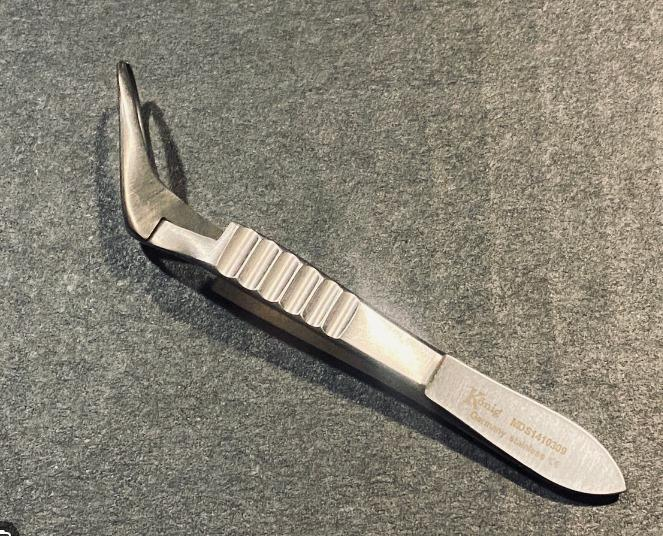Jones Towel Clamp: (107, 51, 623, 503)
